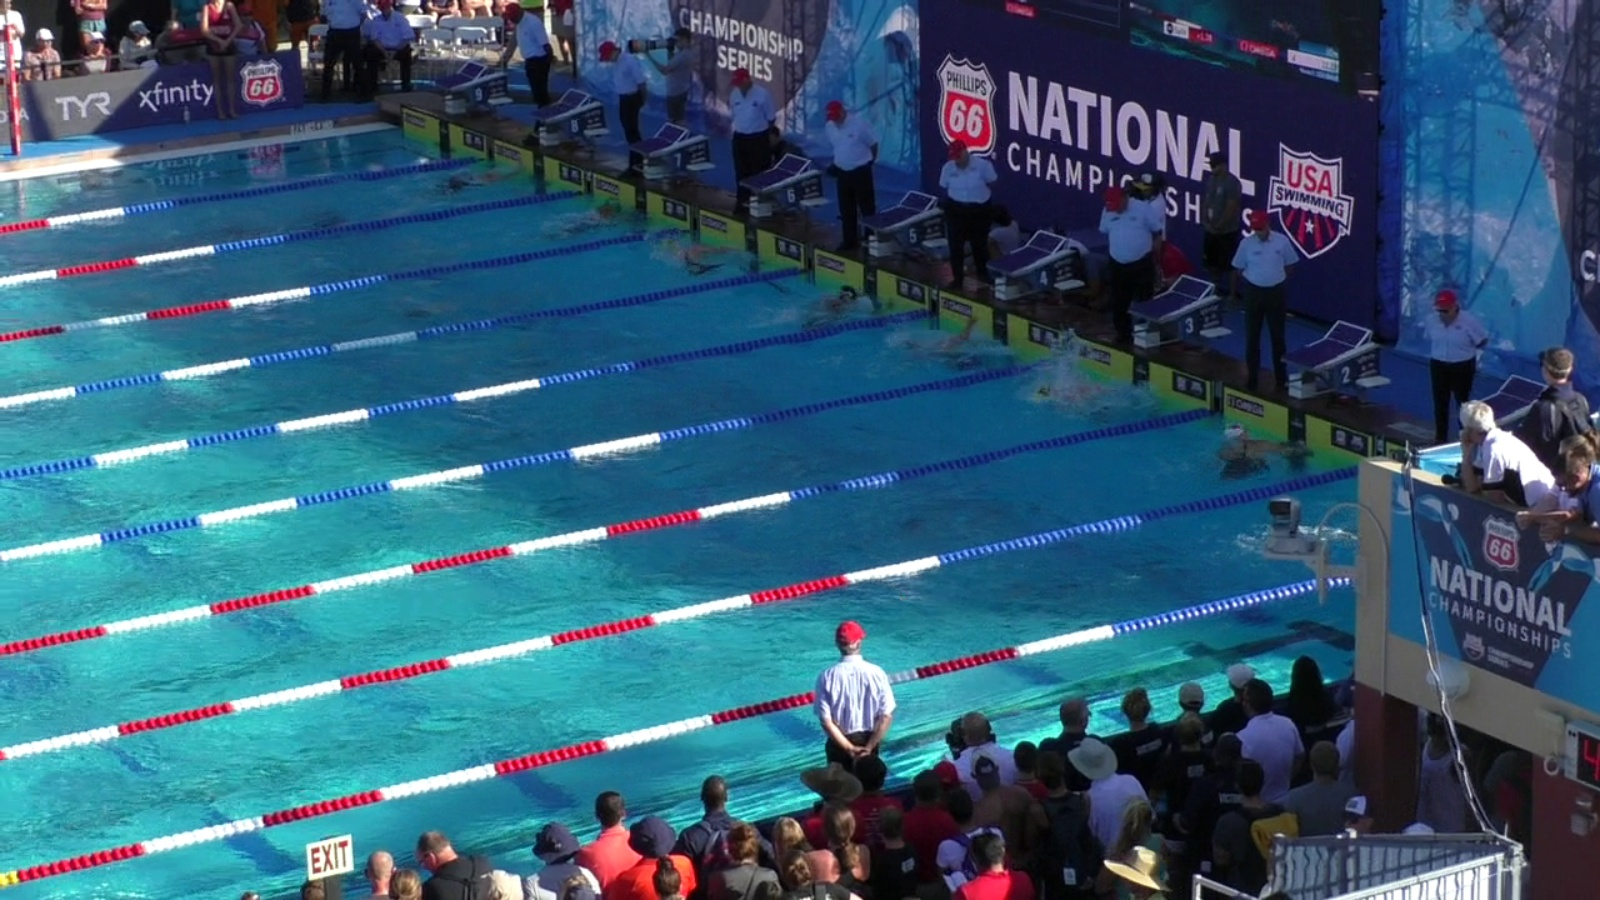swimmerw: (1203, 420, 1311, 495), (1267, 489, 1358, 571), (895, 316, 987, 384), (1031, 381, 1142, 424), (789, 280, 859, 338), (562, 196, 634, 237), (662, 227, 725, 275), (432, 170, 520, 197)
